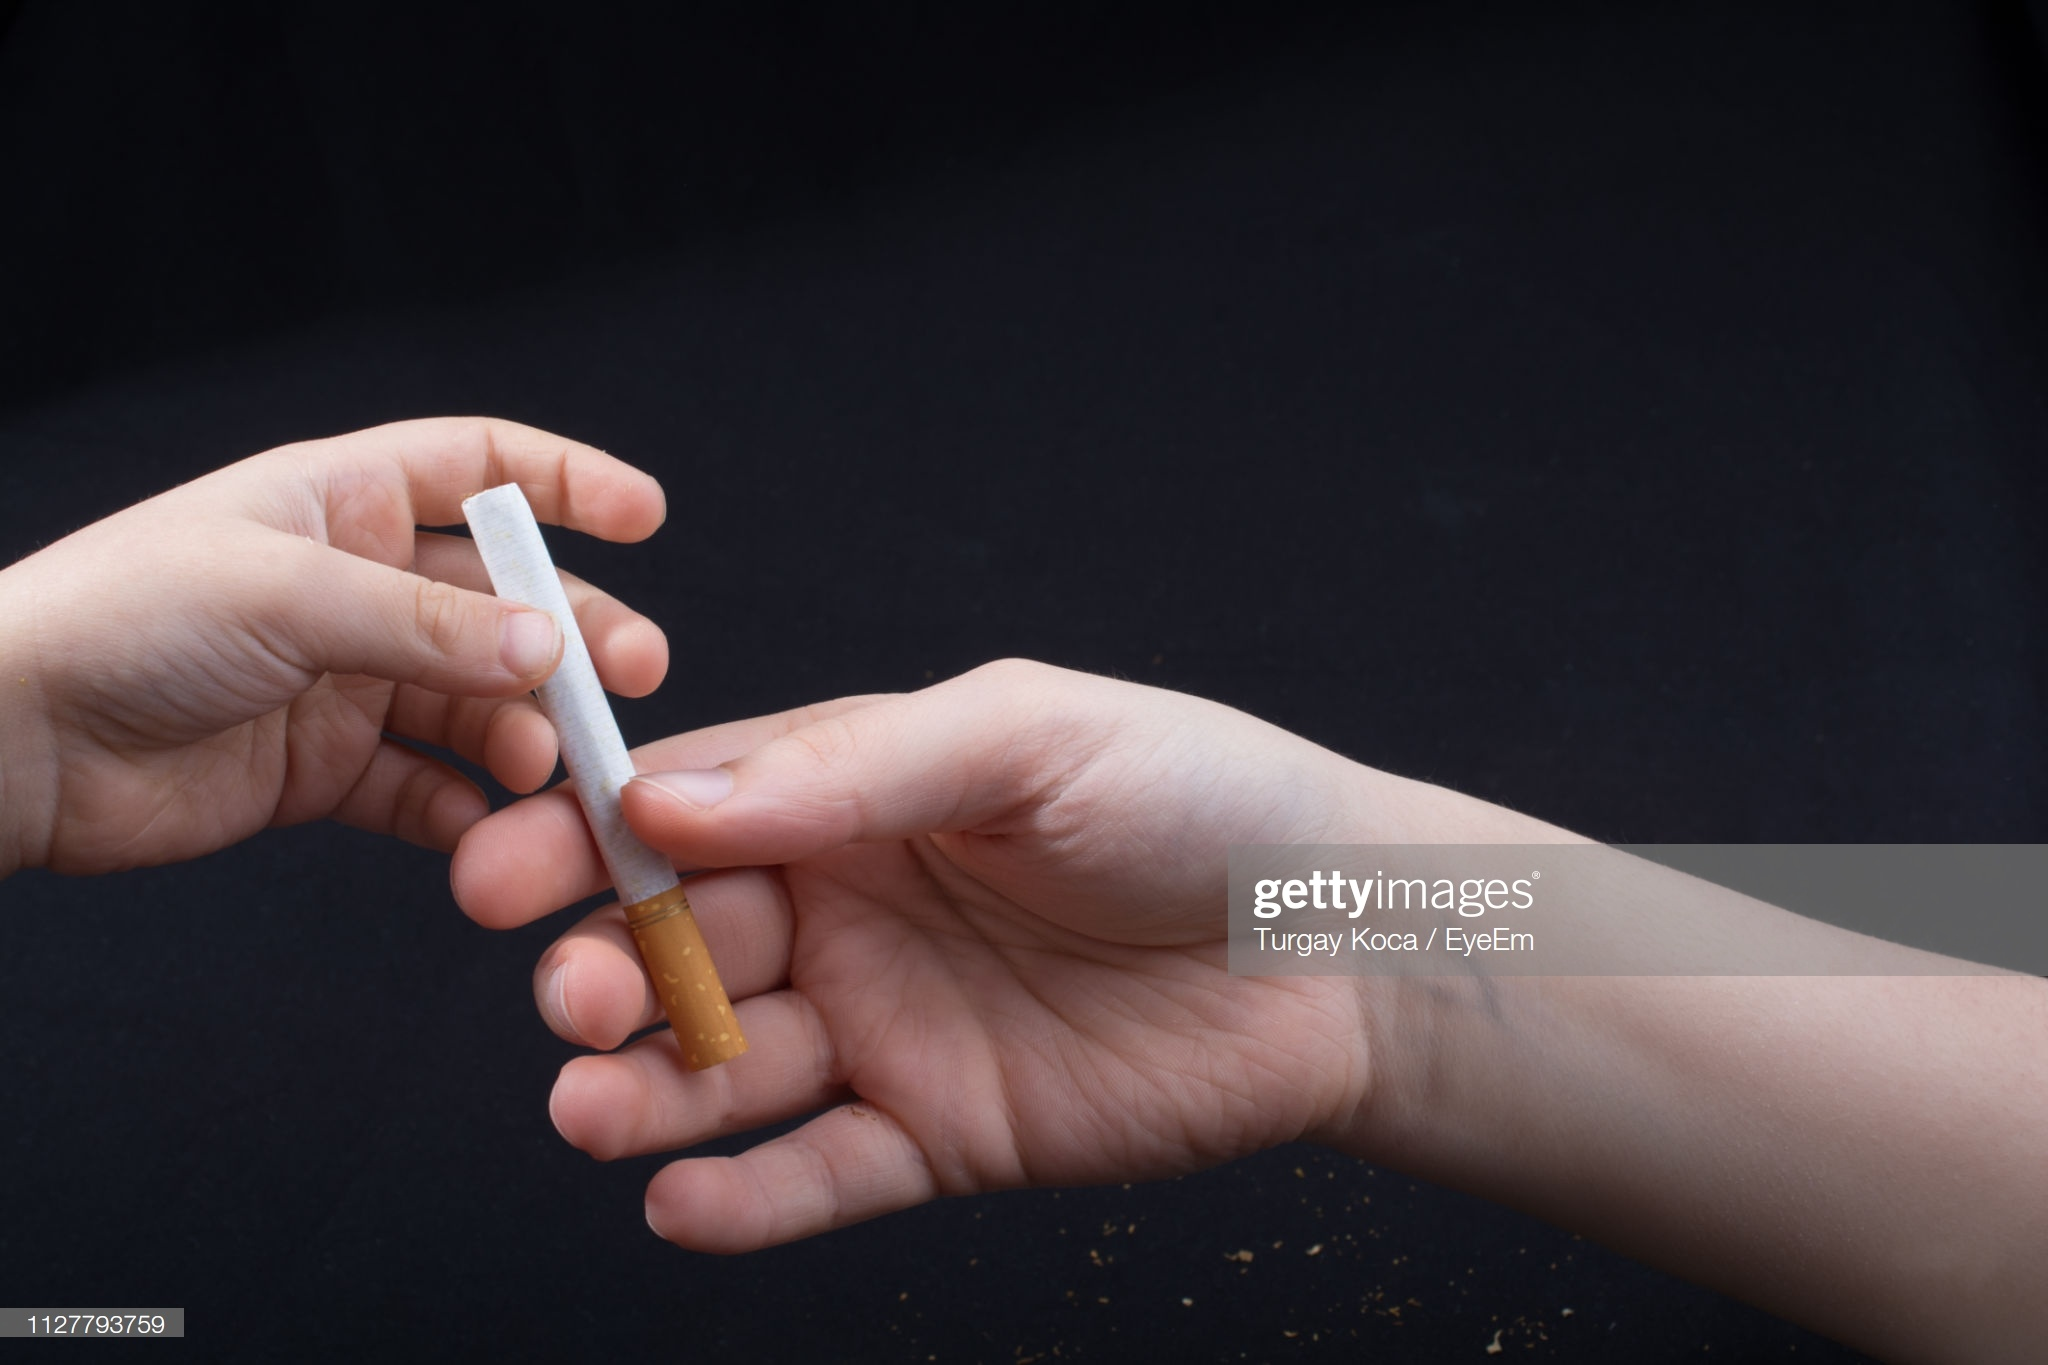sigaretta: (471, 456, 758, 1082)
